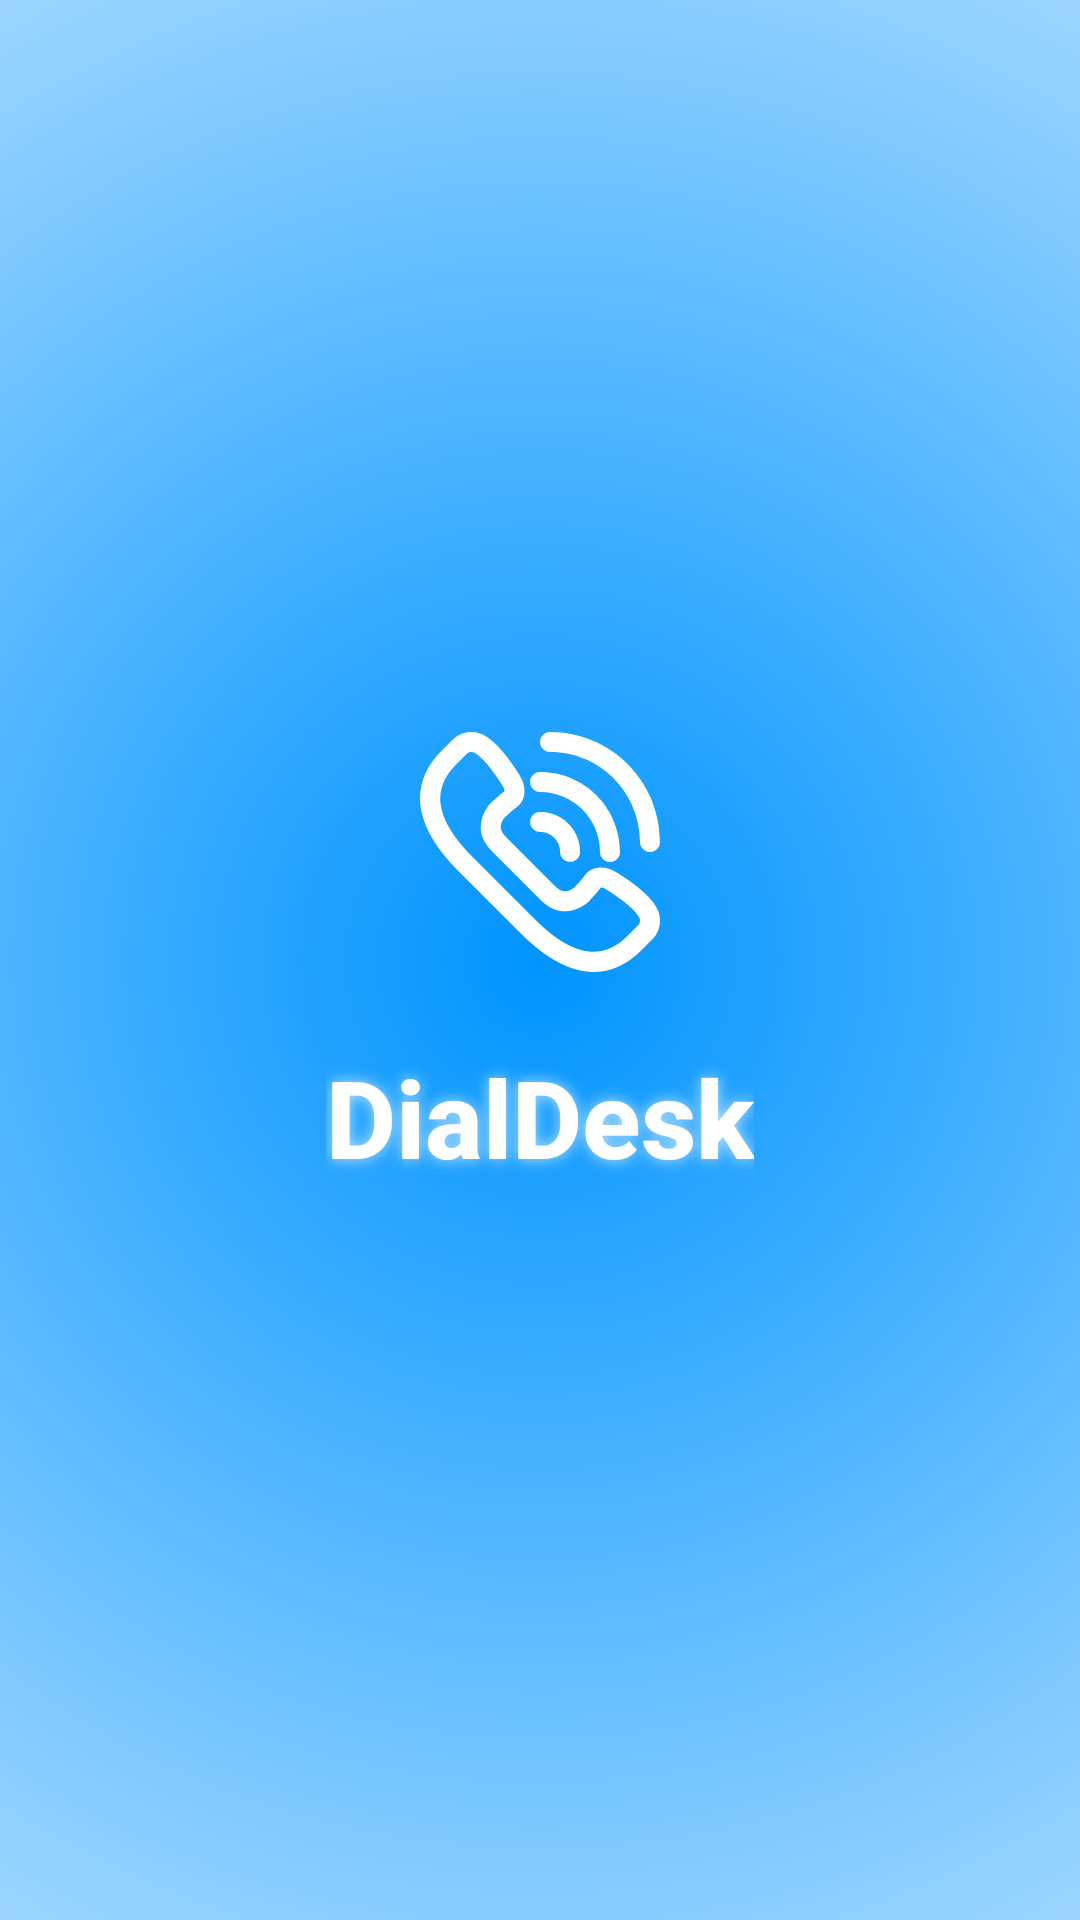

Icon bounding boxes for this 1080px x 1920px phone screenshot, format region(x1, y1, x2, y2):
dialer: region(420, 732, 660, 972)
